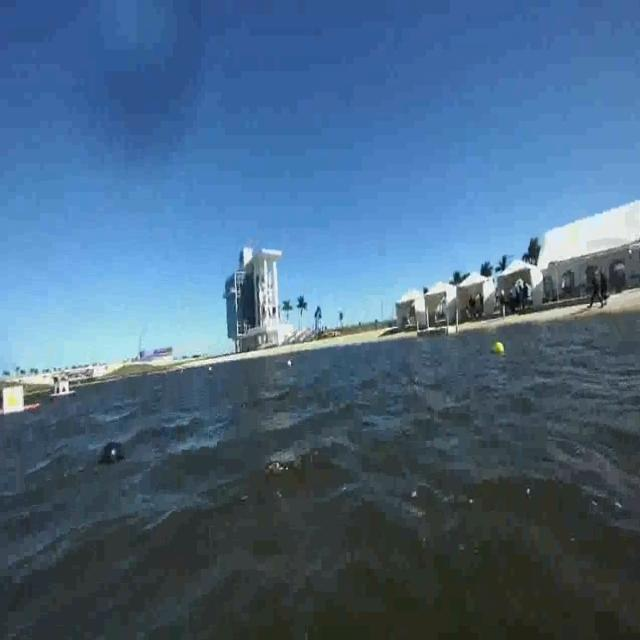black-buoy: (103, 440, 123, 468)
yellow-buoy: (492, 339, 505, 357)
